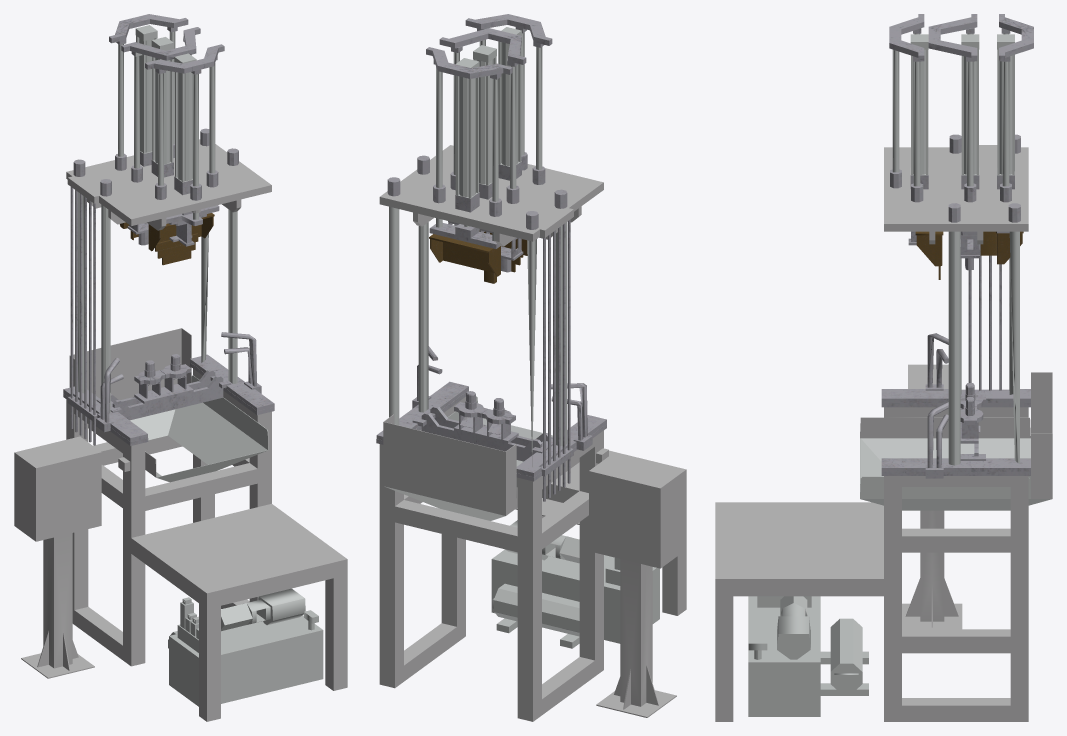
The picture shows the model from 3 angles, left to right: view 1: azimuth 30°, elevation 25°; view 2: azimuth 150°, elevation 25°; view 3: azimuth 270°, elevation 25°; orthographic projection. The views are drawn at different scales.
Parts seen in each view (by area): view 1: N_2098, N_2386, N_1407; view 2: N_2098, N_1407, N_2386; view 3: N_2098, N_1407, N_2386.
Boxes of the visible parts, box(x1,y1,x2,y2) form: N_2098: box(14, 25, 347, 721); N_2386: box(148, 63, 219, 265); N_1407: box(109, 14, 188, 240); N_2098: box(376, 14, 686, 721); N_1407: box(426, 47, 512, 283); N_2386: box(479, 32, 542, 272); N_2098: box(715, 14, 1052, 721); N_1407: box(980, 14, 1033, 264); N_2386: box(892, 33, 943, 279).
Bounding box in the file's own units: 2.49 × 5.94 × 2.8.
Materials: 2 (2 with a texture image).
